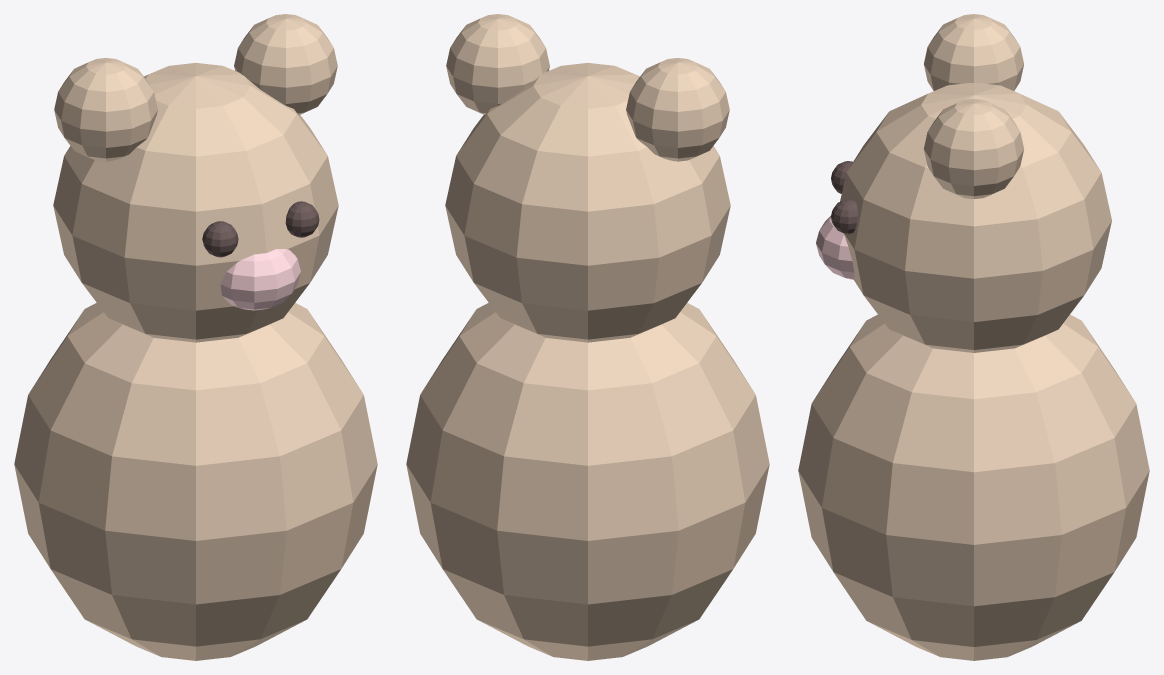
The model's file is plush.glb.
3 renders of one model, left to right at view 1: azimuth 30°, elevation 25°; view 2: azimuth 150°, elevation 25°; view 3: azimuth 270°, elevation 25°, orthographic. The views are drawn at different scales.
Parts seen in each view (by area): view 1: body, head, ears, muzzle, eyes; view 2: body, head, ears; view 3: body, head, ears, muzzle, eyes.
Boxes of the visible parts, left/top/right/bottom form: body: left=14, top=302, right=377, bottom=660; head: left=53, top=63, right=338, bottom=342; ears: left=54, top=14, right=337, bottom=161; muzzle: left=220, top=249, right=300, bottom=310; eyes: left=202, top=201, right=319, bottom=257; body: left=406, top=302, right=769, bottom=660; head: left=445, top=63, right=730, bottom=342; ears: left=446, top=14, right=729, bottom=161; body: left=798, top=314, right=1149, bottom=660; head: left=840, top=83, right=1111, bottom=352; ears: left=924, top=14, right=1023, bottom=198; muzzle: left=816, top=216, right=854, bottom=279; eyes: left=831, top=161, right=857, bottom=234.
Size of what is drawn, in the model's own units: 0.14 by 0.257 by 0.14.
